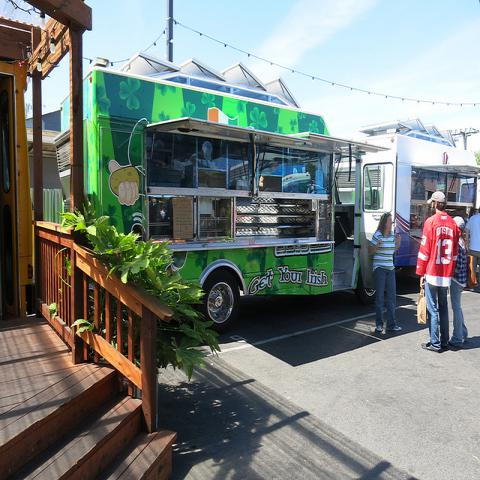truck: (78, 68, 388, 326), (356, 118, 480, 302)
